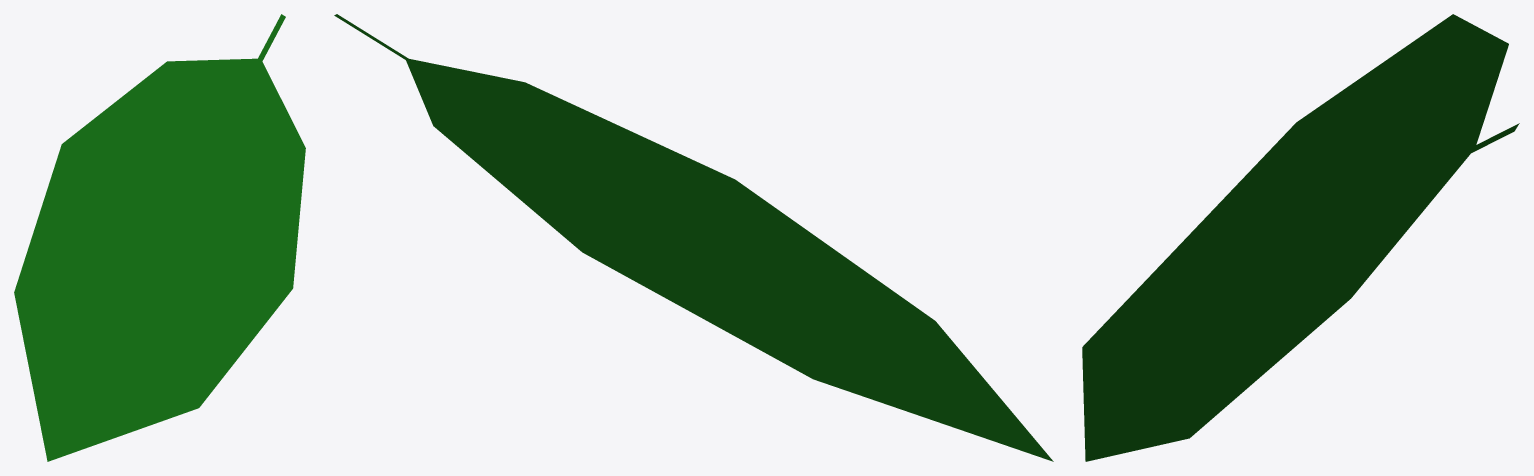
Rendered from Leaves.117.obj.
3 views of the same model, side by side, from view 1: azimuth 30°, elevation 25°; view 2: azimuth 150°, elevation 25°; view 3: azimuth 270°, elevation 25° (orthographic). The views are drawn at different scales.
Parts seen in each view (by area): view 1: Leaves.117_leaves.117; view 2: Leaves.117_leaves.117; view 3: Leaves.117_leaves.117.
Boxes of the visible parts, <box> form: Leaves.117_leaves.117: <box>14,14,305,461</box>; Leaves.117_leaves.117: <box>334,14,1053,461</box>; Leaves.117_leaves.117: <box>1082,14,1519,461</box>.
Size of the model in its own units: 0.1092 by 0.0846 by 0.0604.
